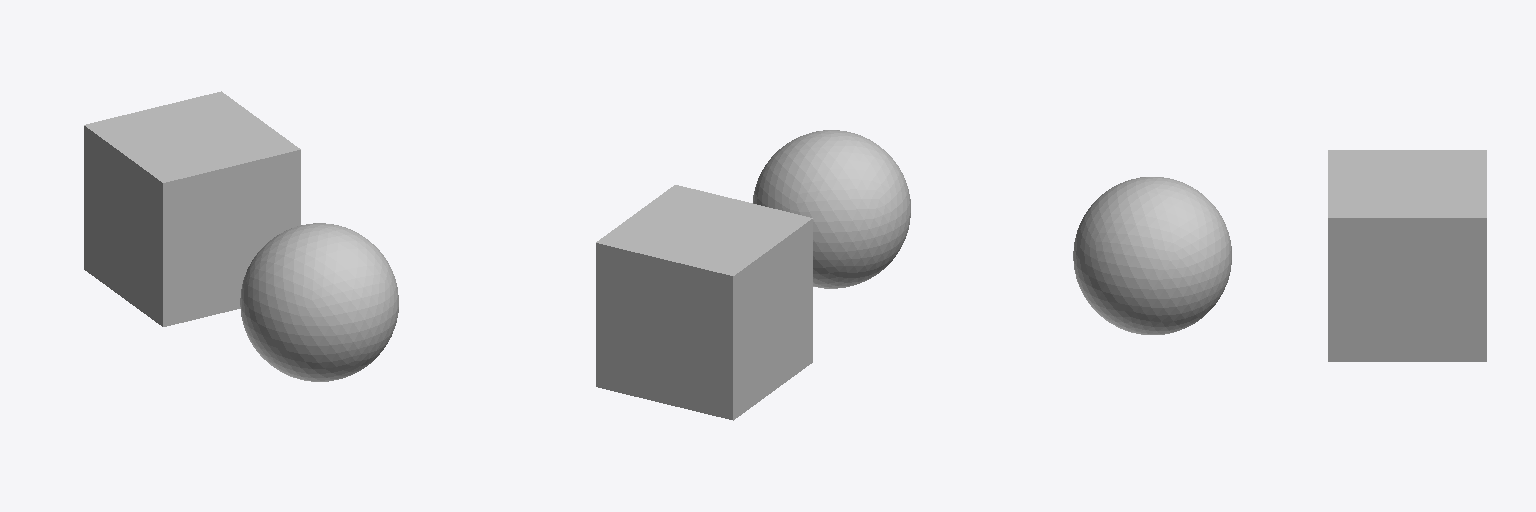
The model's file is cube[0.4,0,0] sphere[-0.4,0,0]_rotZ90.obj.
The picture shows the model from 3 angles: view 1: azimuth 30°, elevation 25°; view 2: azimuth 150°, elevation 25°; view 3: azimuth 270°, elevation 25°; orthographic projection.
Visible parts, largest first — view 1: Cube.001_Cube.002, Icosphere.002; view 2: Cube.001_Cube.002, Icosphere.002; view 3: Cube.001_Cube.002, Icosphere.002.
Part boxes in pixels (bbox=[...]): Cube.001_Cube.002: bbox=[84, 91, 300, 326]; Icosphere.002: bbox=[240, 223, 398, 381]; Cube.001_Cube.002: bbox=[596, 185, 812, 420]; Icosphere.002: bbox=[753, 130, 910, 288]; Cube.001_Cube.002: bbox=[1328, 150, 1486, 361]; Icosphere.002: bbox=[1073, 177, 1231, 334].
Bounding box in the file's own units: 0.5 × 0.5 × 1.3.